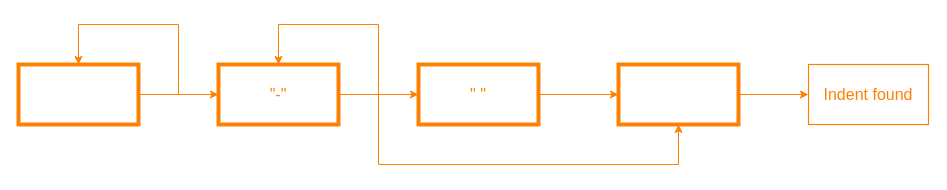
This 947x190 diagram has some shape labels left out. The centre of each missing label's shape, as x and y in pixels:
Alphanum: (x=678, y=94)
Decorators, " ", but "-": (x=78, y=94)
